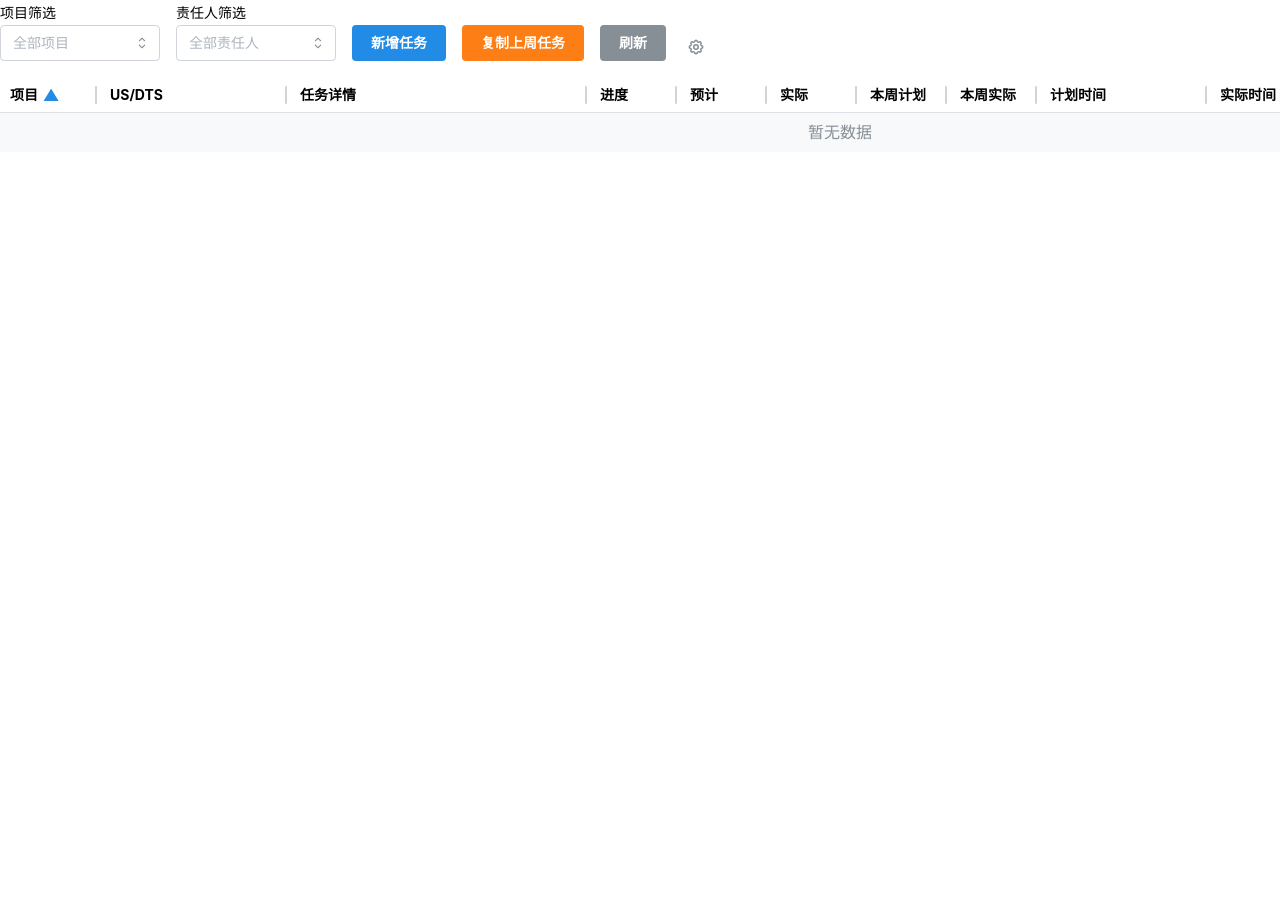
TaskTable 列配置隐藏集成测试 › 取消勾选某列后该列从表头移除
Click the 4th button.
click(696, 47)  # box [682,33,710,61]
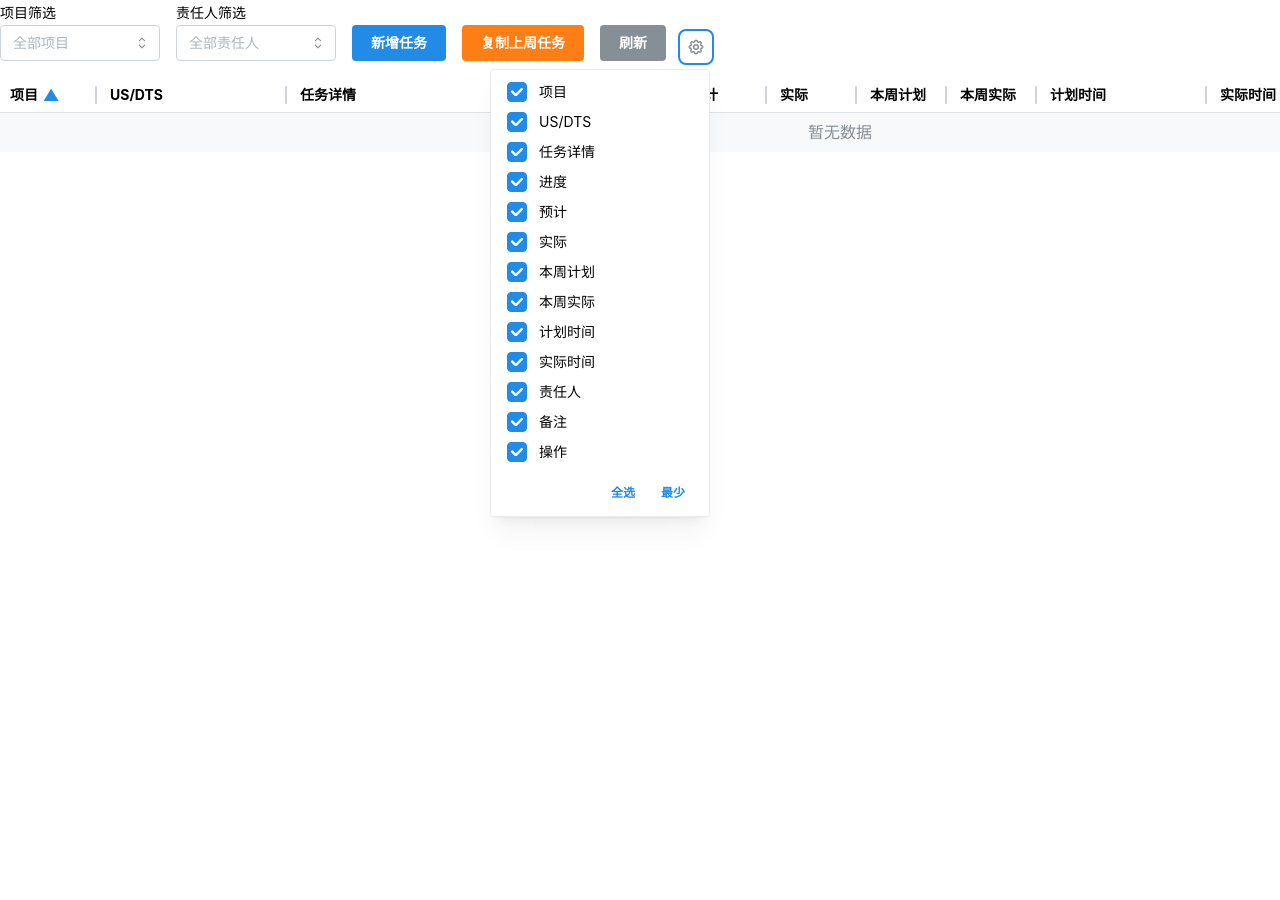
Click the checkbox labelled "US/DTS".
click(517, 122)  # box [507,112,527,132]
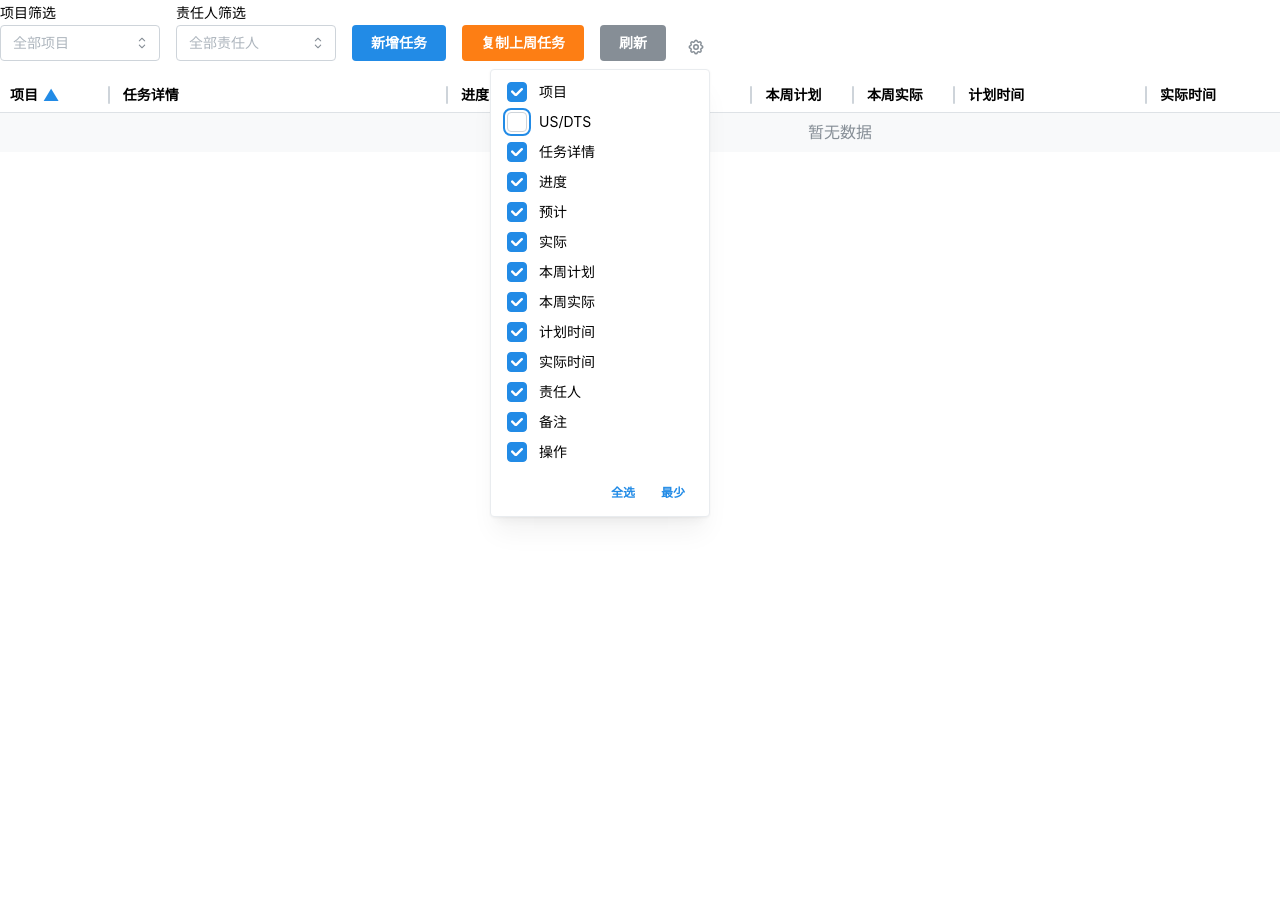
关闭 popover
Click the 4th button.
click(696, 47)  # box [682,33,710,61]
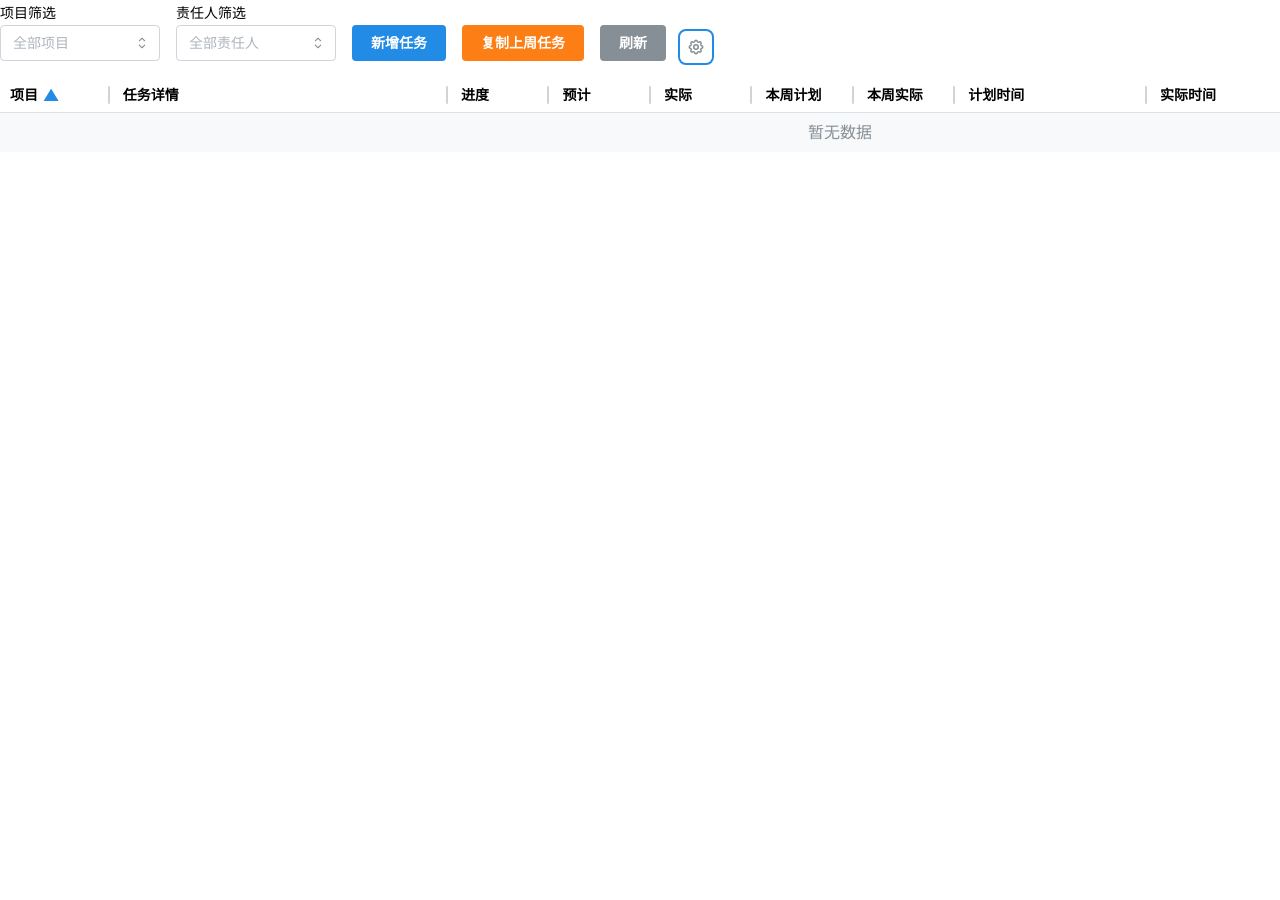
Now the text "US/DTS" is gone
